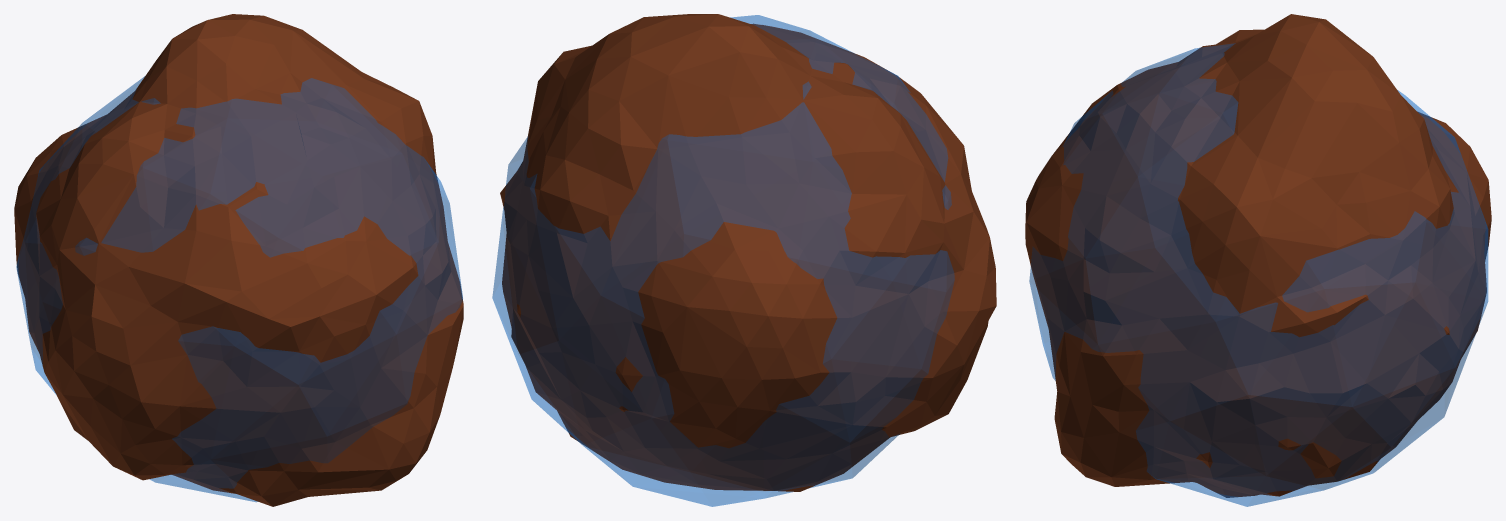
Rendered from cristal-decimated-planet.glb.
3 views of the same model, side by side, from view 1: azimuth 30°, elevation 25°; view 2: azimuth 150°, elevation 25°; view 3: azimuth 270°, elevation 25° (orthographic). The views are drawn at different scales.
Parts seen in each view (by area): view 1: Icosphere, Icosphere.001; view 2: Icosphere, Icosphere.001; view 3: Icosphere, Icosphere.001.
Part boxes in pixels (x1,y1,x2,y2): Icosphere: [14, 14, 463, 506]; Icosphere.001: [16, 76, 462, 502]; Icosphere: [500, 14, 996, 491]; Icosphere.001: [492, 15, 954, 506]; Icosphere: [1025, 14, 1491, 497]; Icosphere.001: [1029, 43, 1488, 506].
Bounding box in the file's own units: 2.06 × 2.18 × 2.01.
